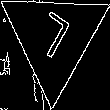L_SW: (30, 9, 77, 67)
